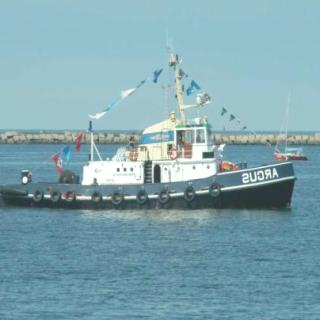Tug Boat: (0, 44, 305, 204)
